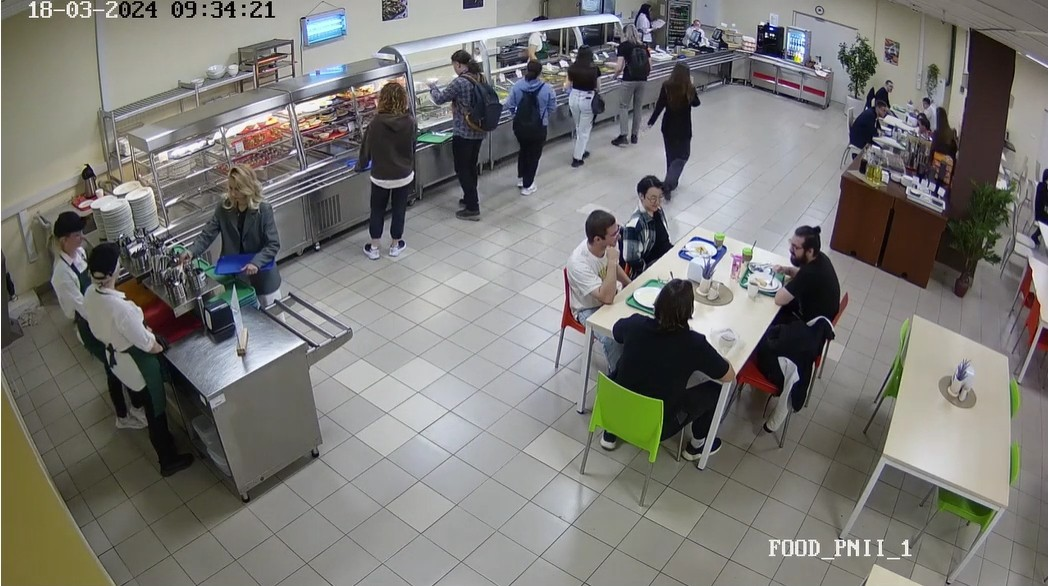Ne_v_Ocheredi: (657, 59, 697, 198), (1024, 163, 1048, 244)
Personal: (77, 246, 193, 486), (43, 210, 118, 377), (514, 24, 553, 60), (640, 5, 662, 42), (682, 18, 708, 48)
Vybiraet: (182, 154, 291, 310), (354, 73, 418, 256), (429, 47, 494, 219), (507, 61, 554, 187), (558, 41, 600, 167), (609, 18, 643, 149)
Za_Stolom: (578, 273, 722, 493), (555, 217, 634, 337), (767, 213, 844, 322), (630, 183, 668, 265), (852, 90, 898, 155), (910, 121, 952, 160), (913, 91, 946, 125), (869, 70, 899, 95)
